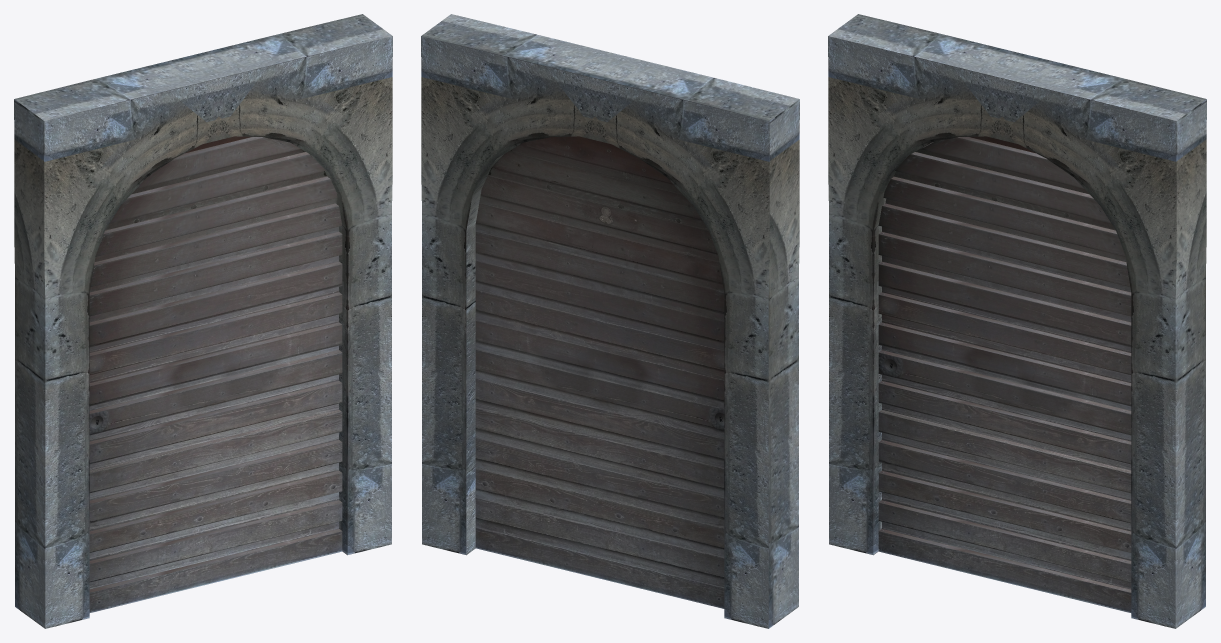
File: Door_Q.fbx
The picture shows the model from 3 angles, left to right: view 1: azimuth 30°, elevation 25°; view 2: azimuth 150°, elevation 25°; view 3: azimuth 330°, elevation 25°; orthographic projection.
Parts seen in each view (by area): view 1: DoorQ, DoorFrame; view 2: DoorQ, DoorFrame; view 3: DoorQ, DoorFrame.
Part boxes in pixels (x1,y1,x2,y2): DoorQ: [89, 136, 342, 612]; DoorFrame: [14, 14, 392, 628]; DoorQ: [475, 136, 724, 608]; DoorFrame: [421, 14, 799, 628]; DoorQ: [878, 136, 1131, 612]; DoorFrame: [828, 14, 1206, 628].
Bounding box in the file's own units: 3.92 × 5.46 × 0.5863.
1 material, 1 textured.
